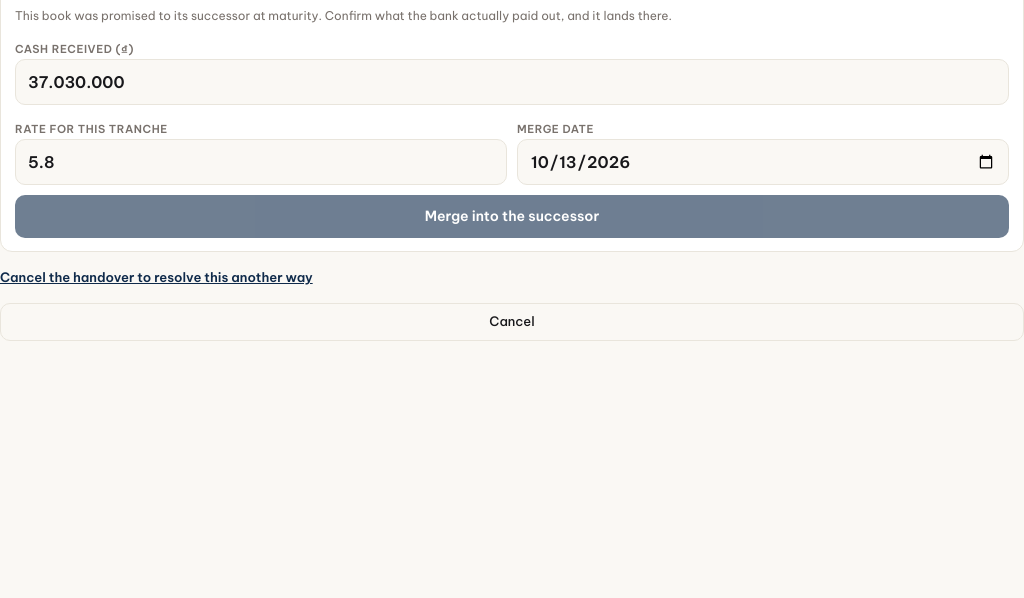
Test: MaturityResolveBody › cancels the handover from the promised book’s own sheet
The image size is (1024, 598).
Click the button with test id "cancel-handover-btn" at (156, 277), box [0,268,1023,287]
(page scrolled)
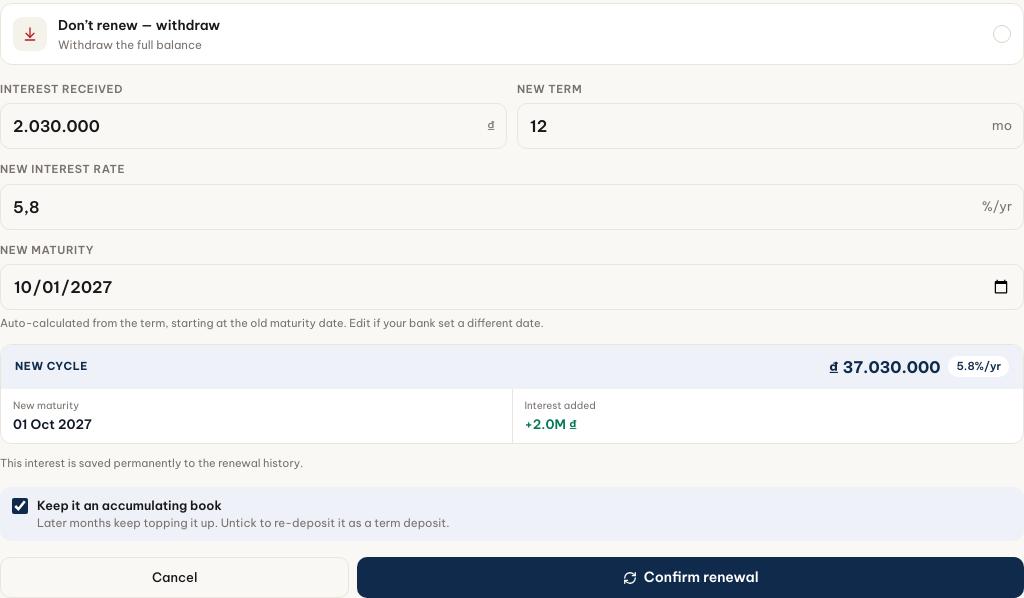
Expected: the button with test id "cancel-handover-btn" is gone
Expected: the button "Confirm renewal" is shown, [357,557,1023,597]
